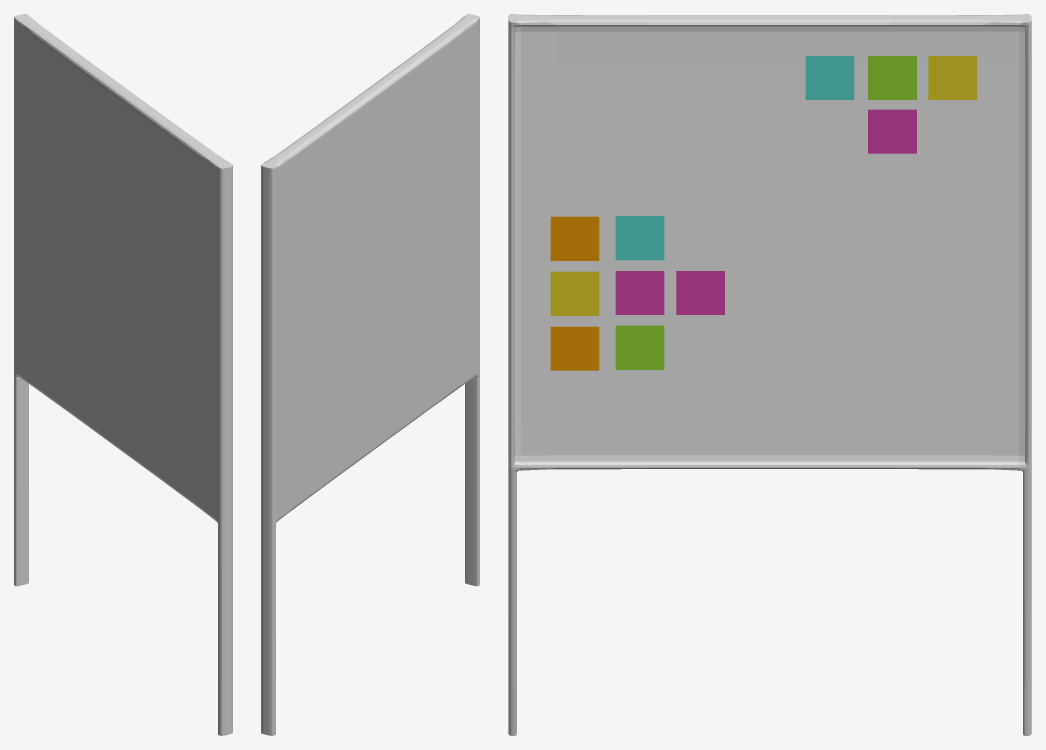
Rendered from various_boards2.fbx.
3 views of the same model, side by side, from view 1: azimuth 30°, elevation 25°; view 2: azimuth 150°, elevation 25°; view 3: azimuth 270°, elevation 25° (orthographic). The views are drawn at different scales.
Visible parts, largest first — view 1: Cube; view 2: Cube; view 3: Cube, Plane.001.
Part boxes in pixels (x1,y1,x2,y2): Cube: [14, 14, 232, 735]; Cube: [261, 14, 479, 735]; Cube: [508, 14, 1031, 735]; Plane.001: [550, 56, 976, 370].
Bounding box in the file's own units: 22.35 × 575 × 382.
